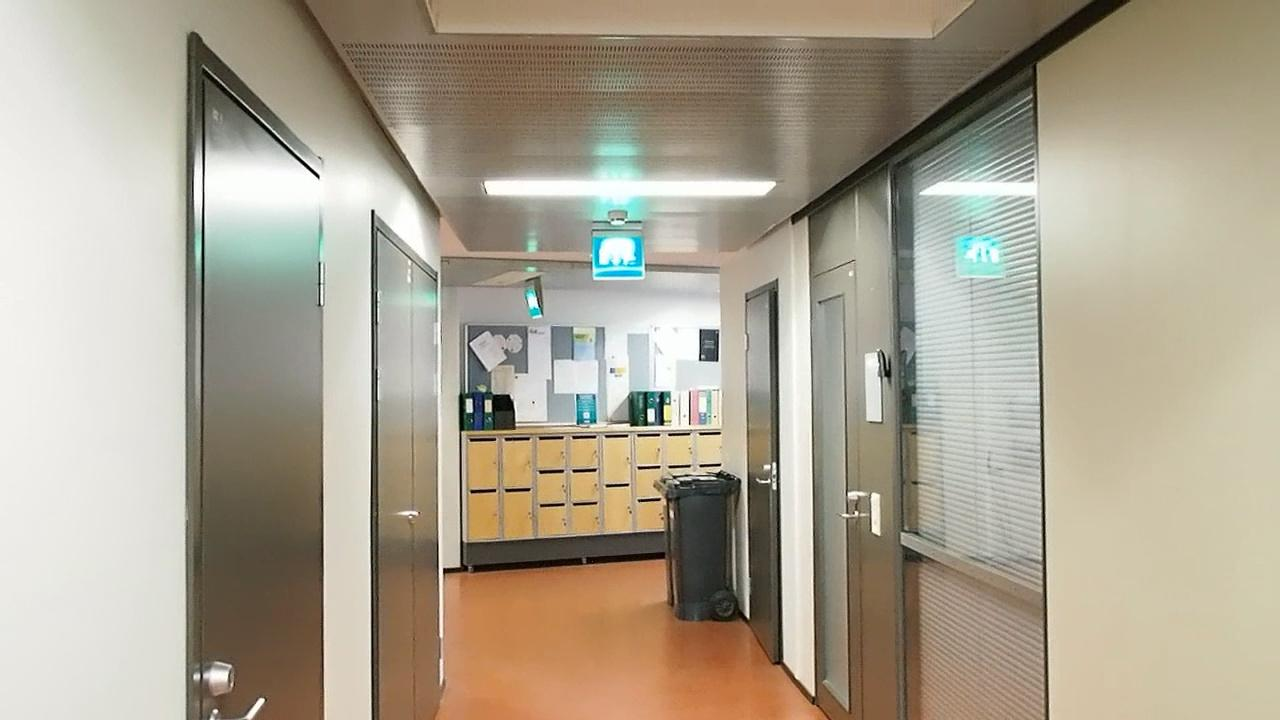exit: (589, 230, 647, 281)
trashbin: (664, 464, 736, 621)
